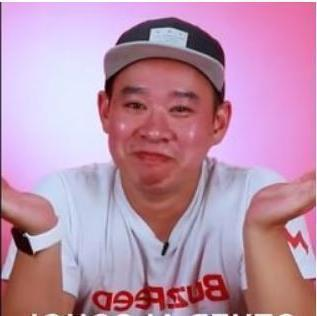Drunk: (112, 69, 207, 182)
